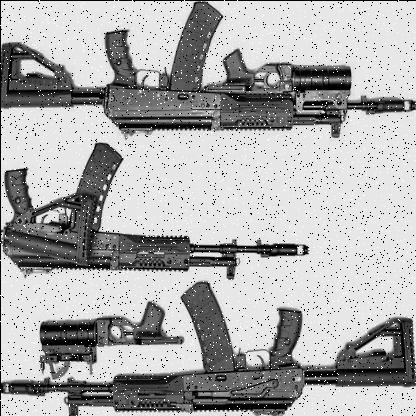rifle: (10, 275, 414, 415), (0, 5, 412, 133), (3, 128, 315, 274)
